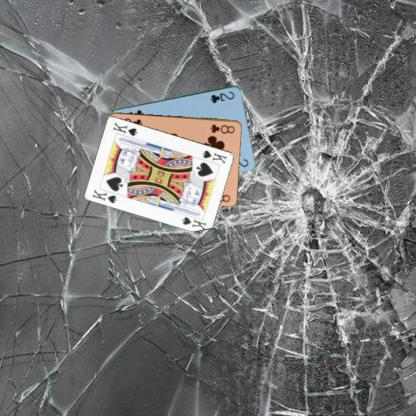2c: (207, 88, 236, 104)
8c: (207, 121, 236, 135)
Ks: (200, 147, 228, 165), (90, 186, 118, 204)
